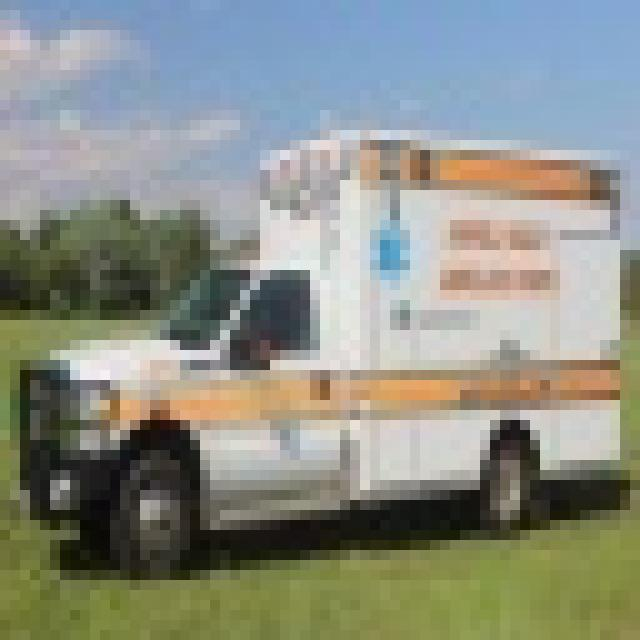Ambulance: (10, 120, 630, 570)
